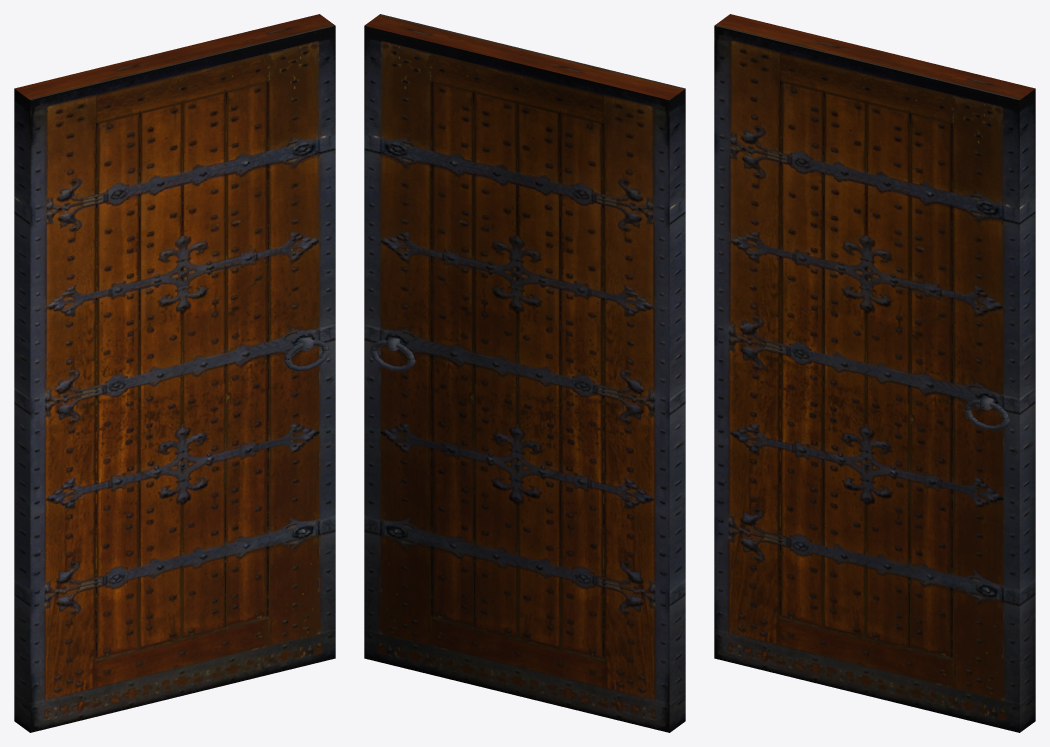
The model's file is SH3D_Sparta_SDoorL.obj.
The picture shows the model from 3 angles, left to right: view 1: azimuth 30°, elevation 25°; view 2: azimuth 150°, elevation 25°; view 3: azimuth 330°, elevation 25°; orthographic projection.
Visible parts, largest first — view 1: SH3D_Sparta_SDoorL0; view 2: SH3D_Sparta_SDoorL0; view 3: SH3D_Sparta_SDoorL0.
Part boxes in pixels (bbox=[...]): SH3D_Sparta_SDoorL0: bbox=[14, 14, 335, 732]; SH3D_Sparta_SDoorL0: bbox=[364, 14, 685, 732]; SH3D_Sparta_SDoorL0: bbox=[714, 14, 1035, 732].
Size of what is drawn, in the model's own units: 121 by 240 by 16.8.
1 material, 1 textured.
